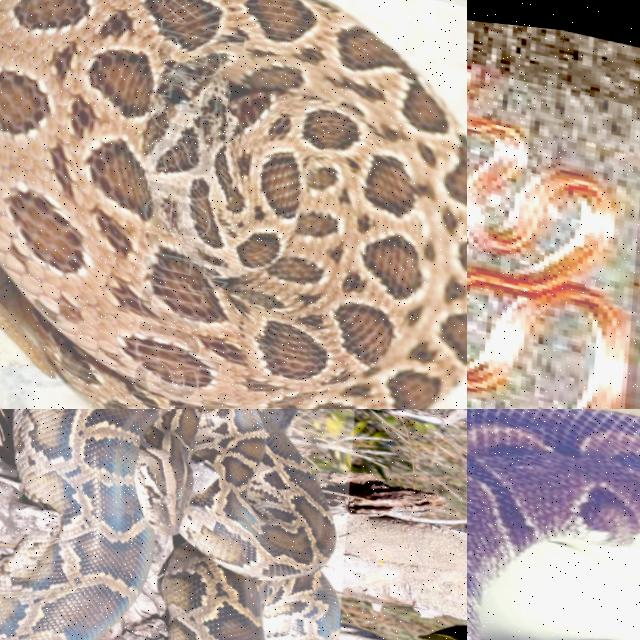Calliophis intestinalis: (467, 107, 627, 408)
Daboia siamensis: (0, 0, 466, 408)
Python bivittatus: (0, 409, 339, 639), (467, 409, 639, 639)
snake: (0, 0, 466, 408), (0, 409, 339, 639), (467, 107, 627, 408), (467, 409, 639, 639)
